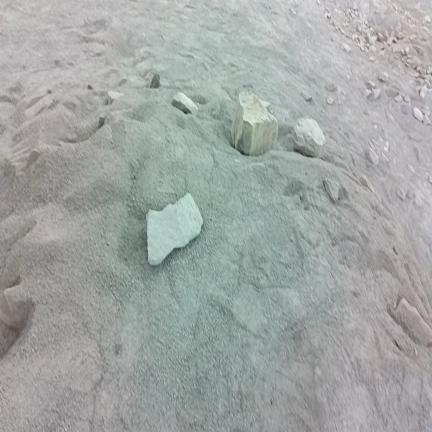Rock: (147, 194, 202, 265), (231, 93, 278, 156), (395, 298, 431, 345), (294, 118, 325, 157), (172, 93, 197, 114), (324, 179, 339, 201), (359, 175, 374, 193), (107, 91, 124, 104), (412, 107, 424, 121), (367, 149, 378, 164), (368, 89, 380, 100), (150, 74, 159, 88), (378, 72, 389, 82), (397, 188, 406, 200), (341, 43, 351, 52), (423, 115, 431, 126), (420, 86, 427, 98), (366, 81, 375, 89), (400, 48, 408, 56), (408, 164, 415, 173), (327, 97, 334, 105), (378, 33, 384, 42), (395, 95, 402, 102), (365, 90, 371, 97), (404, 96, 410, 102), (339, 28, 344, 34), (405, 47, 409, 54)
